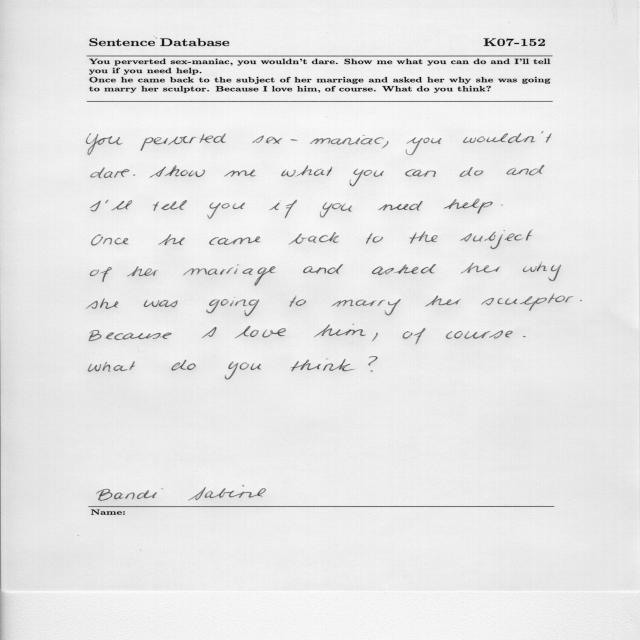word: (184, 264, 276, 286), (481, 294, 574, 311), (141, 133, 226, 151), (460, 230, 532, 249), (252, 135, 384, 145), (331, 299, 401, 315), (463, 132, 551, 144), (89, 330, 172, 341), (206, 299, 259, 316), (291, 359, 354, 372), (86, 133, 123, 155), (444, 199, 493, 214), (523, 262, 561, 281), (150, 165, 205, 178), (372, 264, 436, 275), (314, 324, 366, 337), (225, 362, 261, 380), (208, 202, 246, 219), (406, 138, 441, 156), (281, 165, 332, 177), (235, 326, 286, 338), (446, 330, 513, 339), (289, 232, 339, 244), (349, 169, 384, 186), (88, 361, 135, 372), (270, 200, 297, 218), (320, 203, 352, 218), (209, 236, 261, 245), (378, 201, 423, 211), (461, 263, 501, 274), (425, 295, 461, 307), (91, 168, 130, 179), (507, 165, 545, 176), (92, 235, 129, 246), (303, 264, 343, 274), (409, 231, 438, 244), (153, 200, 187, 211), (403, 328, 426, 344), (86, 298, 118, 309), (127, 266, 158, 277), (90, 267, 112, 282), (106, 200, 133, 211), (158, 234, 185, 245), (171, 360, 196, 371), (224, 169, 256, 177), (405, 169, 436, 177), (460, 167, 484, 177), (144, 300, 178, 307), (366, 233, 383, 244), (290, 296, 307, 307), (202, 327, 217, 338), (368, 357, 378, 372), (90, 201, 101, 212), (382, 141, 388, 149), (372, 333, 378, 341), (133, 174, 135, 176), (523, 336, 526, 337), (501, 205, 503, 206), (580, 301, 582, 302)
